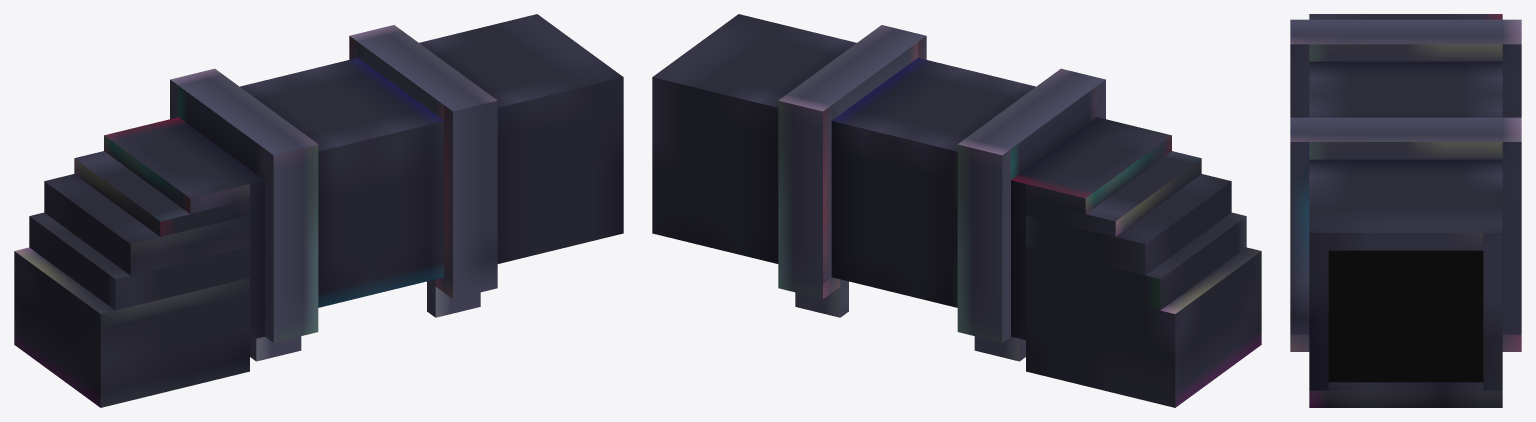
Rendered from Vent_Module_G_00.fbx.
3 views of the same model, side by side, from view 1: azimuth 30°, elevation 25°; view 2: azimuth 150°, elevation 25°; view 3: azimuth 270°, elevation 25° (orthographic). The views are drawn at different scales.
Visible parts, largest first — view 1: Vent_Module_G_00; view 2: Vent_Module_G_00; view 3: Vent_Module_G_00.
Part boxes in pixels (x1,y1,x2,y2): Vent_Module_G_00: [14, 14, 623, 407]; Vent_Module_G_00: [652, 14, 1261, 407]; Vent_Module_G_00: [1290, 14, 1521, 407].
Size of the model in its own units: 175 by 70 by 60.
